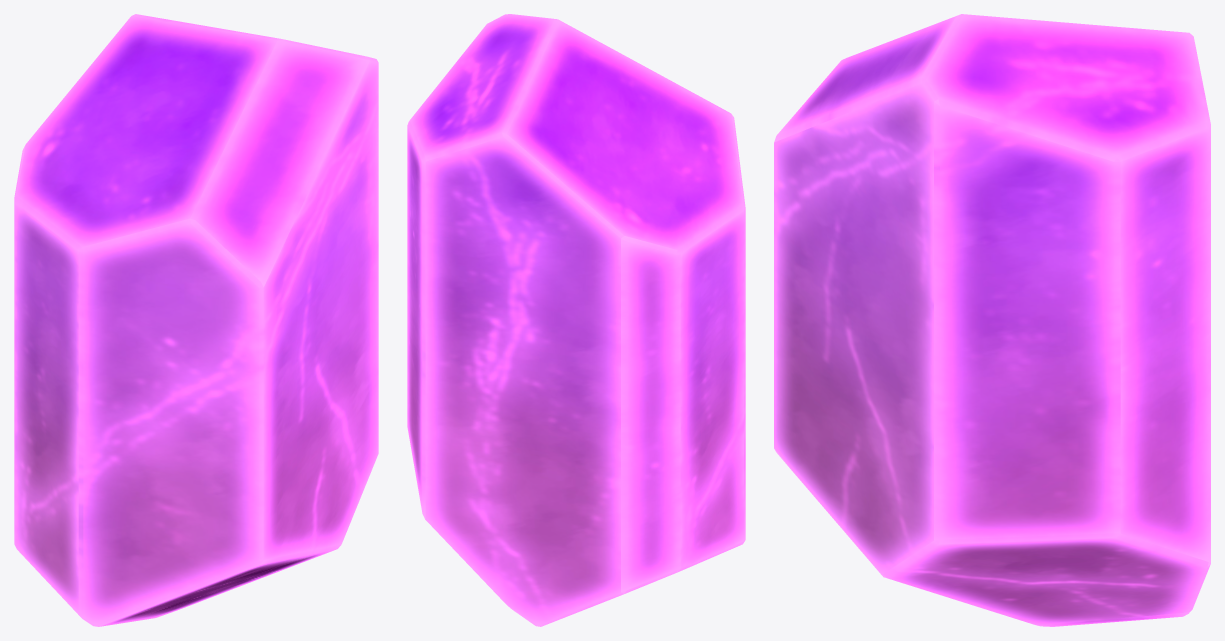
Rendered from cristal.glb.
3 renders of one model, left to right at view 1: azimuth 30°, elevation 25°; view 2: azimuth 150°, elevation 25°; view 3: azimuth 270°, elevation 25°, orthographic. The views are drawn at different scales.
Parts seen in each view (by area): view 1: CrystalLarge6.057; view 2: CrystalLarge6.057; view 3: CrystalLarge6.057.
Part boxes in pixels (box(x1,y1,x2,y2)): CrystalLarge6.057: box(14, 14, 378, 626); CrystalLarge6.057: box(407, 14, 745, 626); CrystalLarge6.057: box(774, 14, 1210, 626).
Size of the model in its own units: 0.519 by 0.9763 by 0.5875.
1 material, 1 textured.
